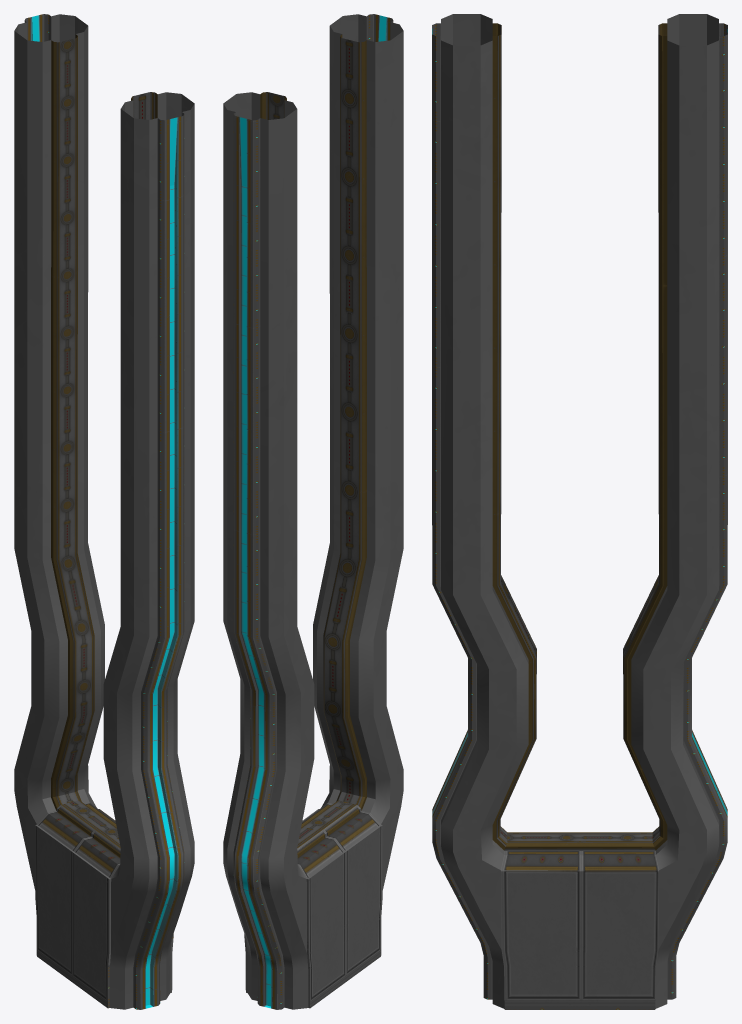
The model's file is strut.obj.
3 renders of one model, left to right at view 1: azimuth 30°, elevation 25°; view 2: azimuth 150°, elevation 25°; view 3: azimuth 270°, elevation 25°, orthographic. The views are drawn at different scales.
Visible parts, largest first — view 1: strut corroridor_4; view 2: strut corroridor_4; view 3: strut corroridor_4.
Part boxes in pixels (left/top/right/bottom): strut corroridor_4: left=14, top=14, right=194, bottom=1009; strut corroridor_4: left=223, top=14, right=403, bottom=1009; strut corroridor_4: left=432, top=14, right=727, bottom=1009.
Size of the model in its own units: 2.26 by 30.44 by 8.47.
Materials: 1 (1 with a texture image).
